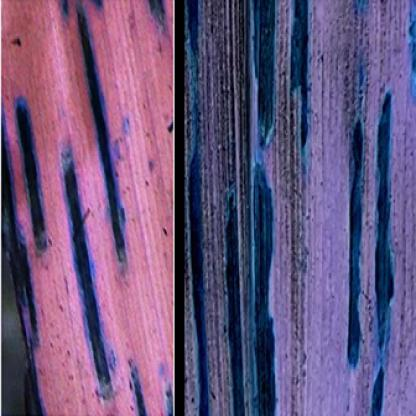corn gray leaf spot: (176, 2, 414, 414)
